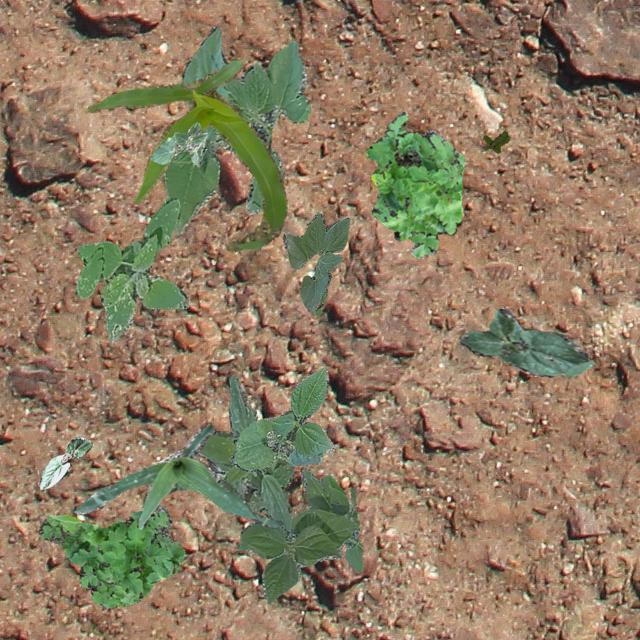crop: (86, 56, 286, 250), (162, 26, 310, 234), (74, 422, 282, 528), (236, 467, 362, 602), (196, 374, 292, 536), (228, 366, 334, 471), (458, 306, 592, 376), (282, 212, 350, 314), (36, 436, 90, 488), (148, 121, 206, 166)
weed: (74, 198, 190, 344), (38, 504, 184, 608), (364, 110, 464, 256), (482, 130, 508, 152)
